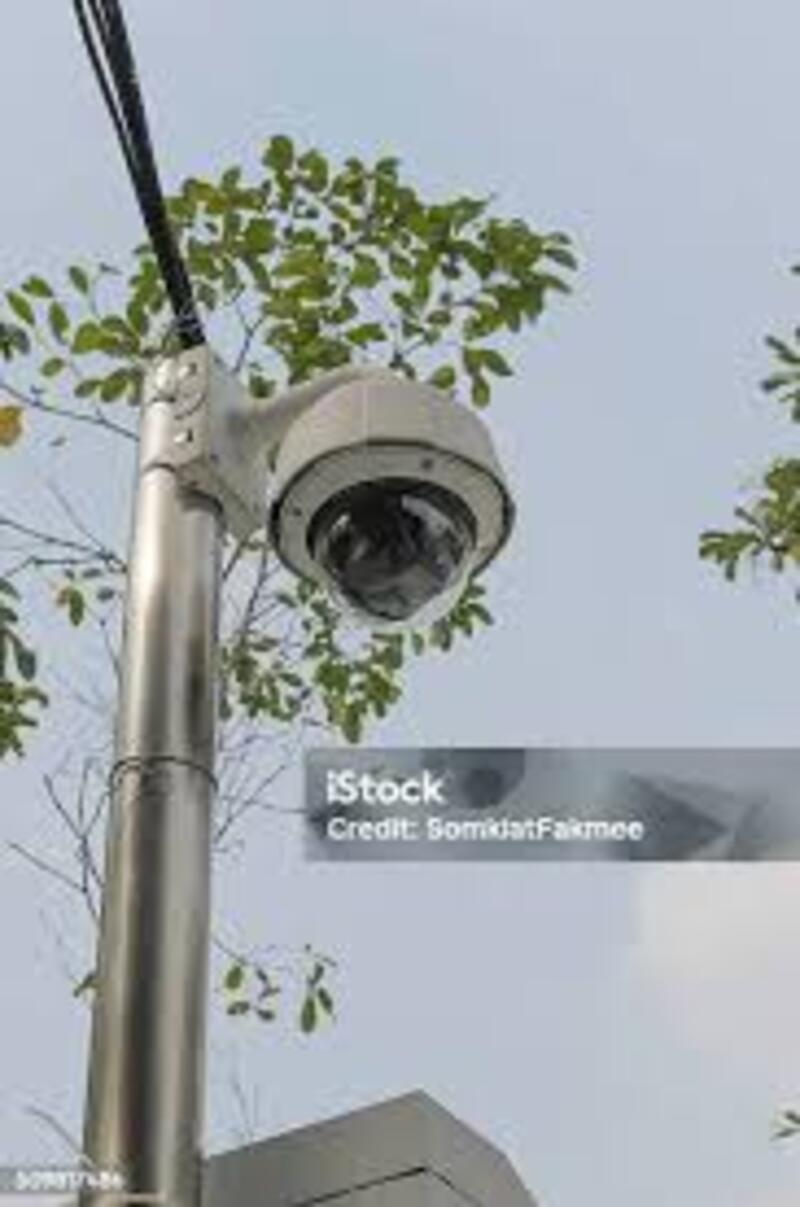dome: (245, 386, 534, 649)
